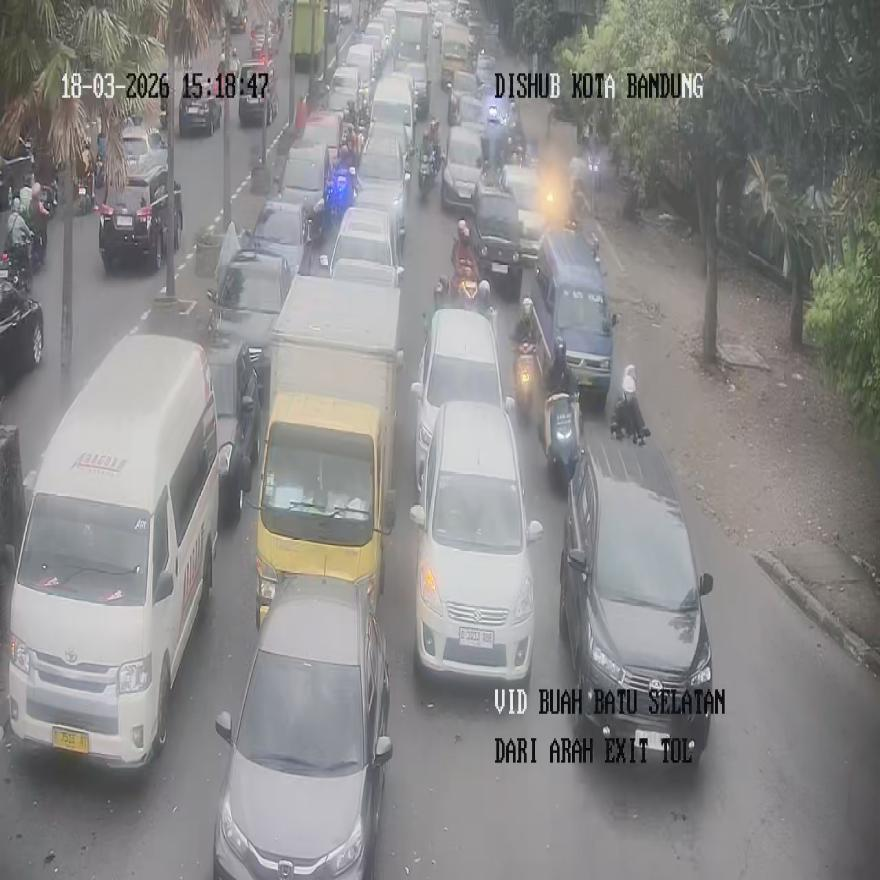Bis: (7, 336, 219, 769)
Mobil: (212, 574, 392, 876), (560, 440, 714, 758), (411, 400, 543, 683), (410, 306, 514, 496), (533, 226, 619, 413), (206, 243, 292, 405)
Motor: (540, 391, 580, 488), (512, 342, 541, 424), (419, 146, 440, 202)
